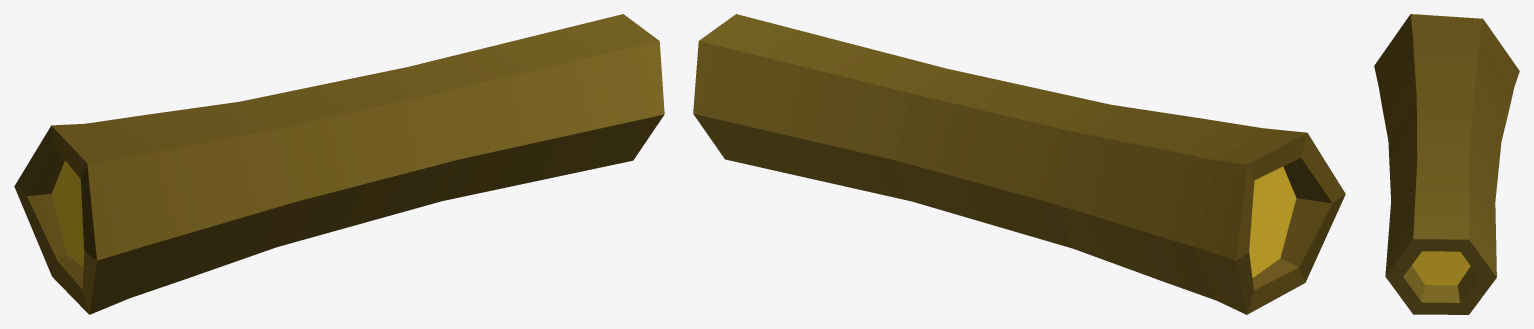
Rendered from log_4.glb.
3 views of the same model, side by side, from view 1: azimuth 30°, elevation 25°; view 2: azimuth 150°, elevation 25°; view 3: azimuth 270°, elevation 25° (orthographic). The views are drawn at different scales.
Visible parts, largest first — view 1: log_4; view 2: log_4; view 3: log_4.
Boxes of the visible parts, box(x1,y1,x2,y2) form: log_4: box(14, 14, 664, 314); log_4: box(693, 14, 1345, 314); log_4: box(1374, 14, 1519, 314).
Size of the model in its own units: 1.46 by 0.3592 by 0.4147.
Materials: 1 (1 with a texture image).
